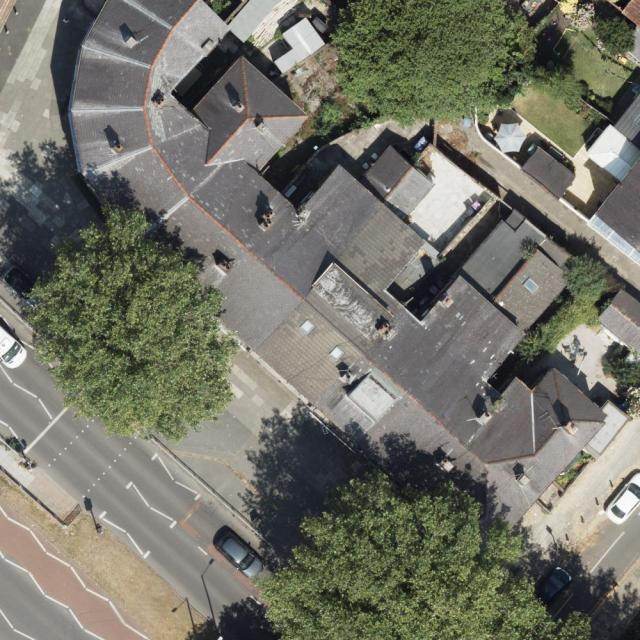roof: (69, 0, 633, 566), (582, 98, 640, 272)
skylight: (521, 275, 542, 296), (297, 318, 318, 337), (329, 345, 348, 360)
